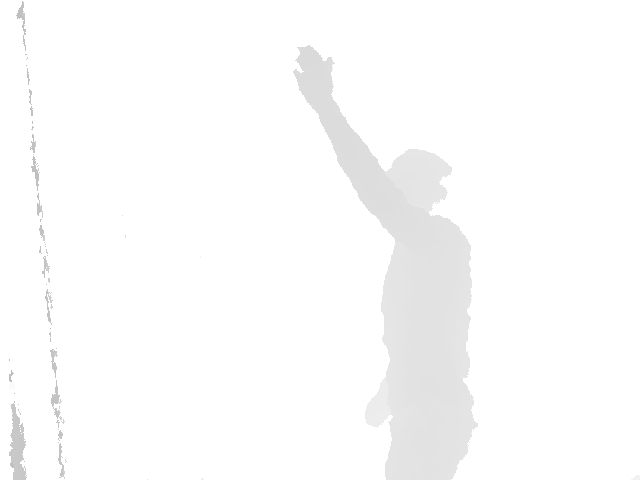hand: (292, 45, 337, 104)
hand_down: (364, 381, 392, 427)
head: (382, 148, 451, 216)
person: (292, 45, 481, 480)
